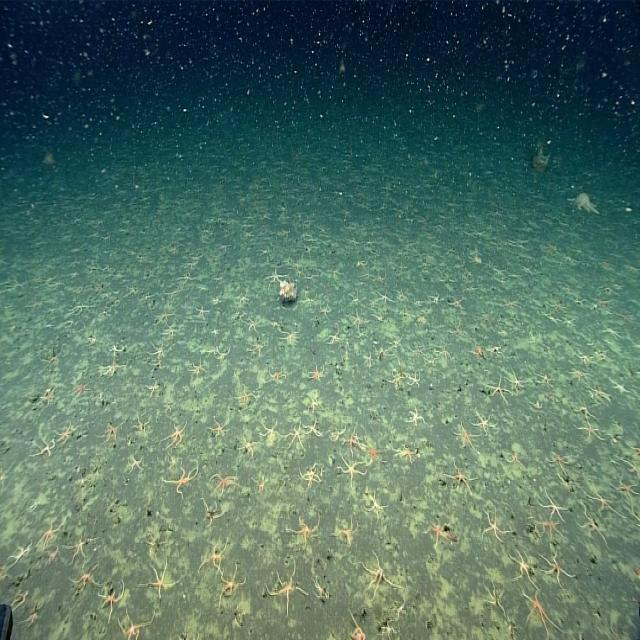brittle-stars: (266, 562, 307, 606), (521, 589, 556, 640), (362, 550, 392, 598), (216, 560, 247, 606), (575, 503, 606, 546), (445, 458, 477, 497), (145, 560, 176, 600), (586, 484, 621, 519), (162, 458, 198, 492), (69, 561, 103, 593), (199, 541, 230, 576), (613, 472, 640, 510), (289, 511, 320, 544), (118, 610, 152, 640), (540, 549, 569, 582), (510, 548, 535, 586), (99, 582, 125, 618), (454, 419, 479, 455), (338, 451, 366, 483), (540, 490, 568, 521), (575, 413, 607, 440), (484, 505, 506, 543), (333, 515, 357, 548), (485, 578, 506, 614), (488, 371, 510, 405), (65, 533, 90, 562), (424, 516, 449, 545), (38, 519, 63, 547), (162, 422, 188, 448), (472, 406, 495, 434), (211, 473, 239, 494), (366, 489, 384, 520), (546, 446, 568, 471), (53, 422, 74, 448), (33, 434, 55, 458), (234, 381, 256, 405), (208, 415, 229, 440), (288, 423, 306, 452), (303, 414, 324, 438), (393, 442, 417, 463), (146, 338, 168, 360), (99, 420, 120, 443), (566, 362, 590, 382), (406, 403, 426, 427), (276, 327, 301, 346), (102, 358, 123, 380), (238, 432, 256, 457), (72, 378, 93, 399), (188, 357, 208, 379), (535, 368, 555, 390), (346, 308, 366, 330), (506, 370, 525, 393), (435, 340, 452, 365), (259, 419, 280, 439), (308, 360, 325, 384), (155, 306, 175, 326), (125, 452, 145, 472), (132, 412, 150, 434), (345, 427, 360, 452), (387, 367, 404, 389), (266, 366, 286, 384), (406, 367, 422, 389), (38, 386, 55, 404), (247, 338, 263, 357), (428, 289, 444, 308), (326, 327, 341, 347), (193, 302, 210, 319), (243, 314, 259, 332), (318, 298, 332, 318), (268, 266, 282, 286), (376, 288, 392, 303), (164, 325, 178, 342)
